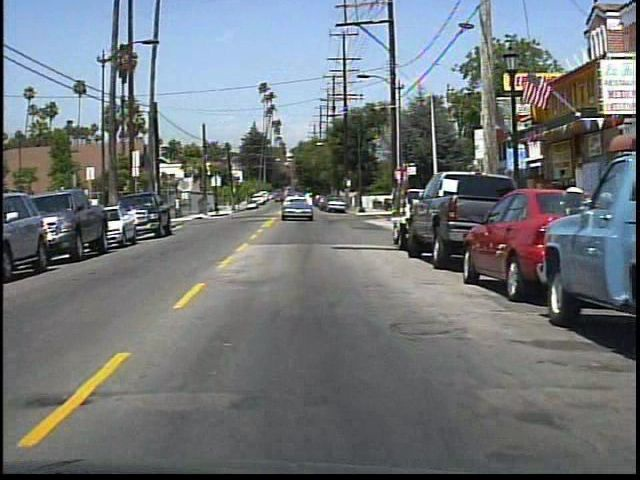person: (560, 175, 589, 244)
